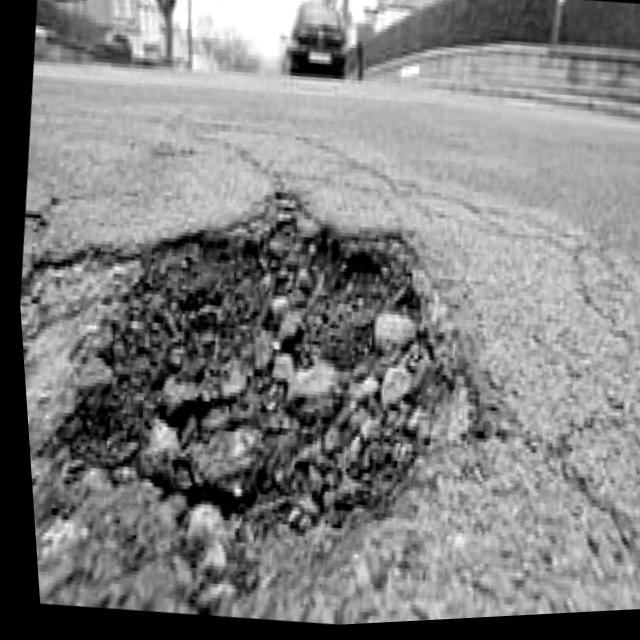pathole: (16, 118, 461, 617)
